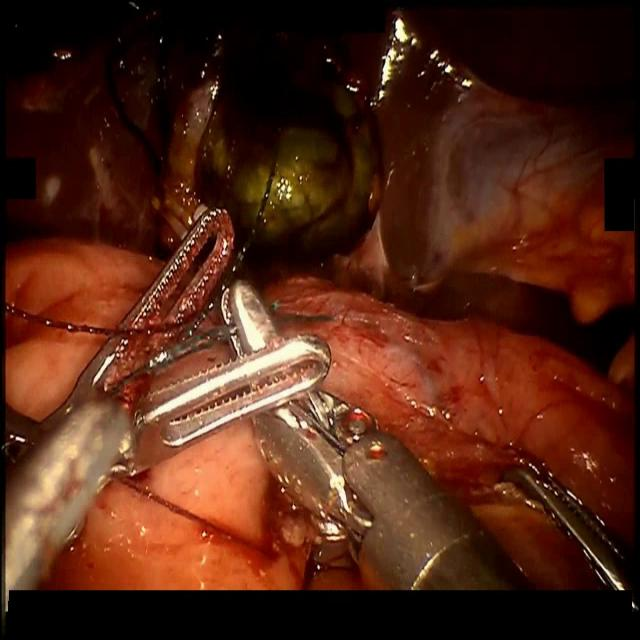surgical-area: (4, 3, 637, 592), (37, 418, 370, 593)
surgical-tool: (4, 205, 332, 612), (251, 388, 546, 593), (494, 460, 640, 589), (219, 277, 281, 358)
